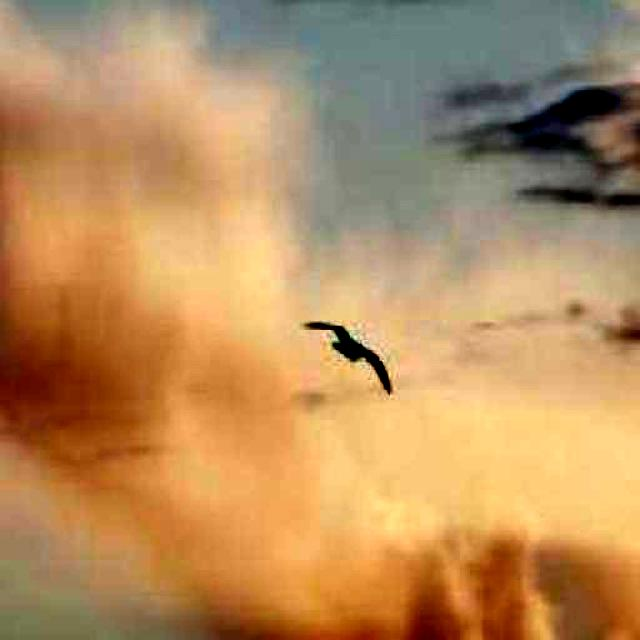airplane: (300, 320, 396, 404)
